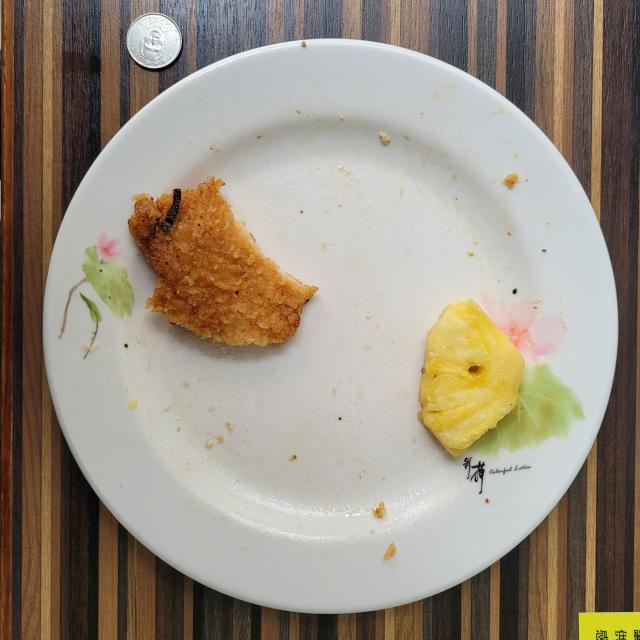coin: (126, 12, 182, 69)
fried chicken cutlet: (129, 178, 318, 346)
pineapple: (419, 299, 525, 456)
